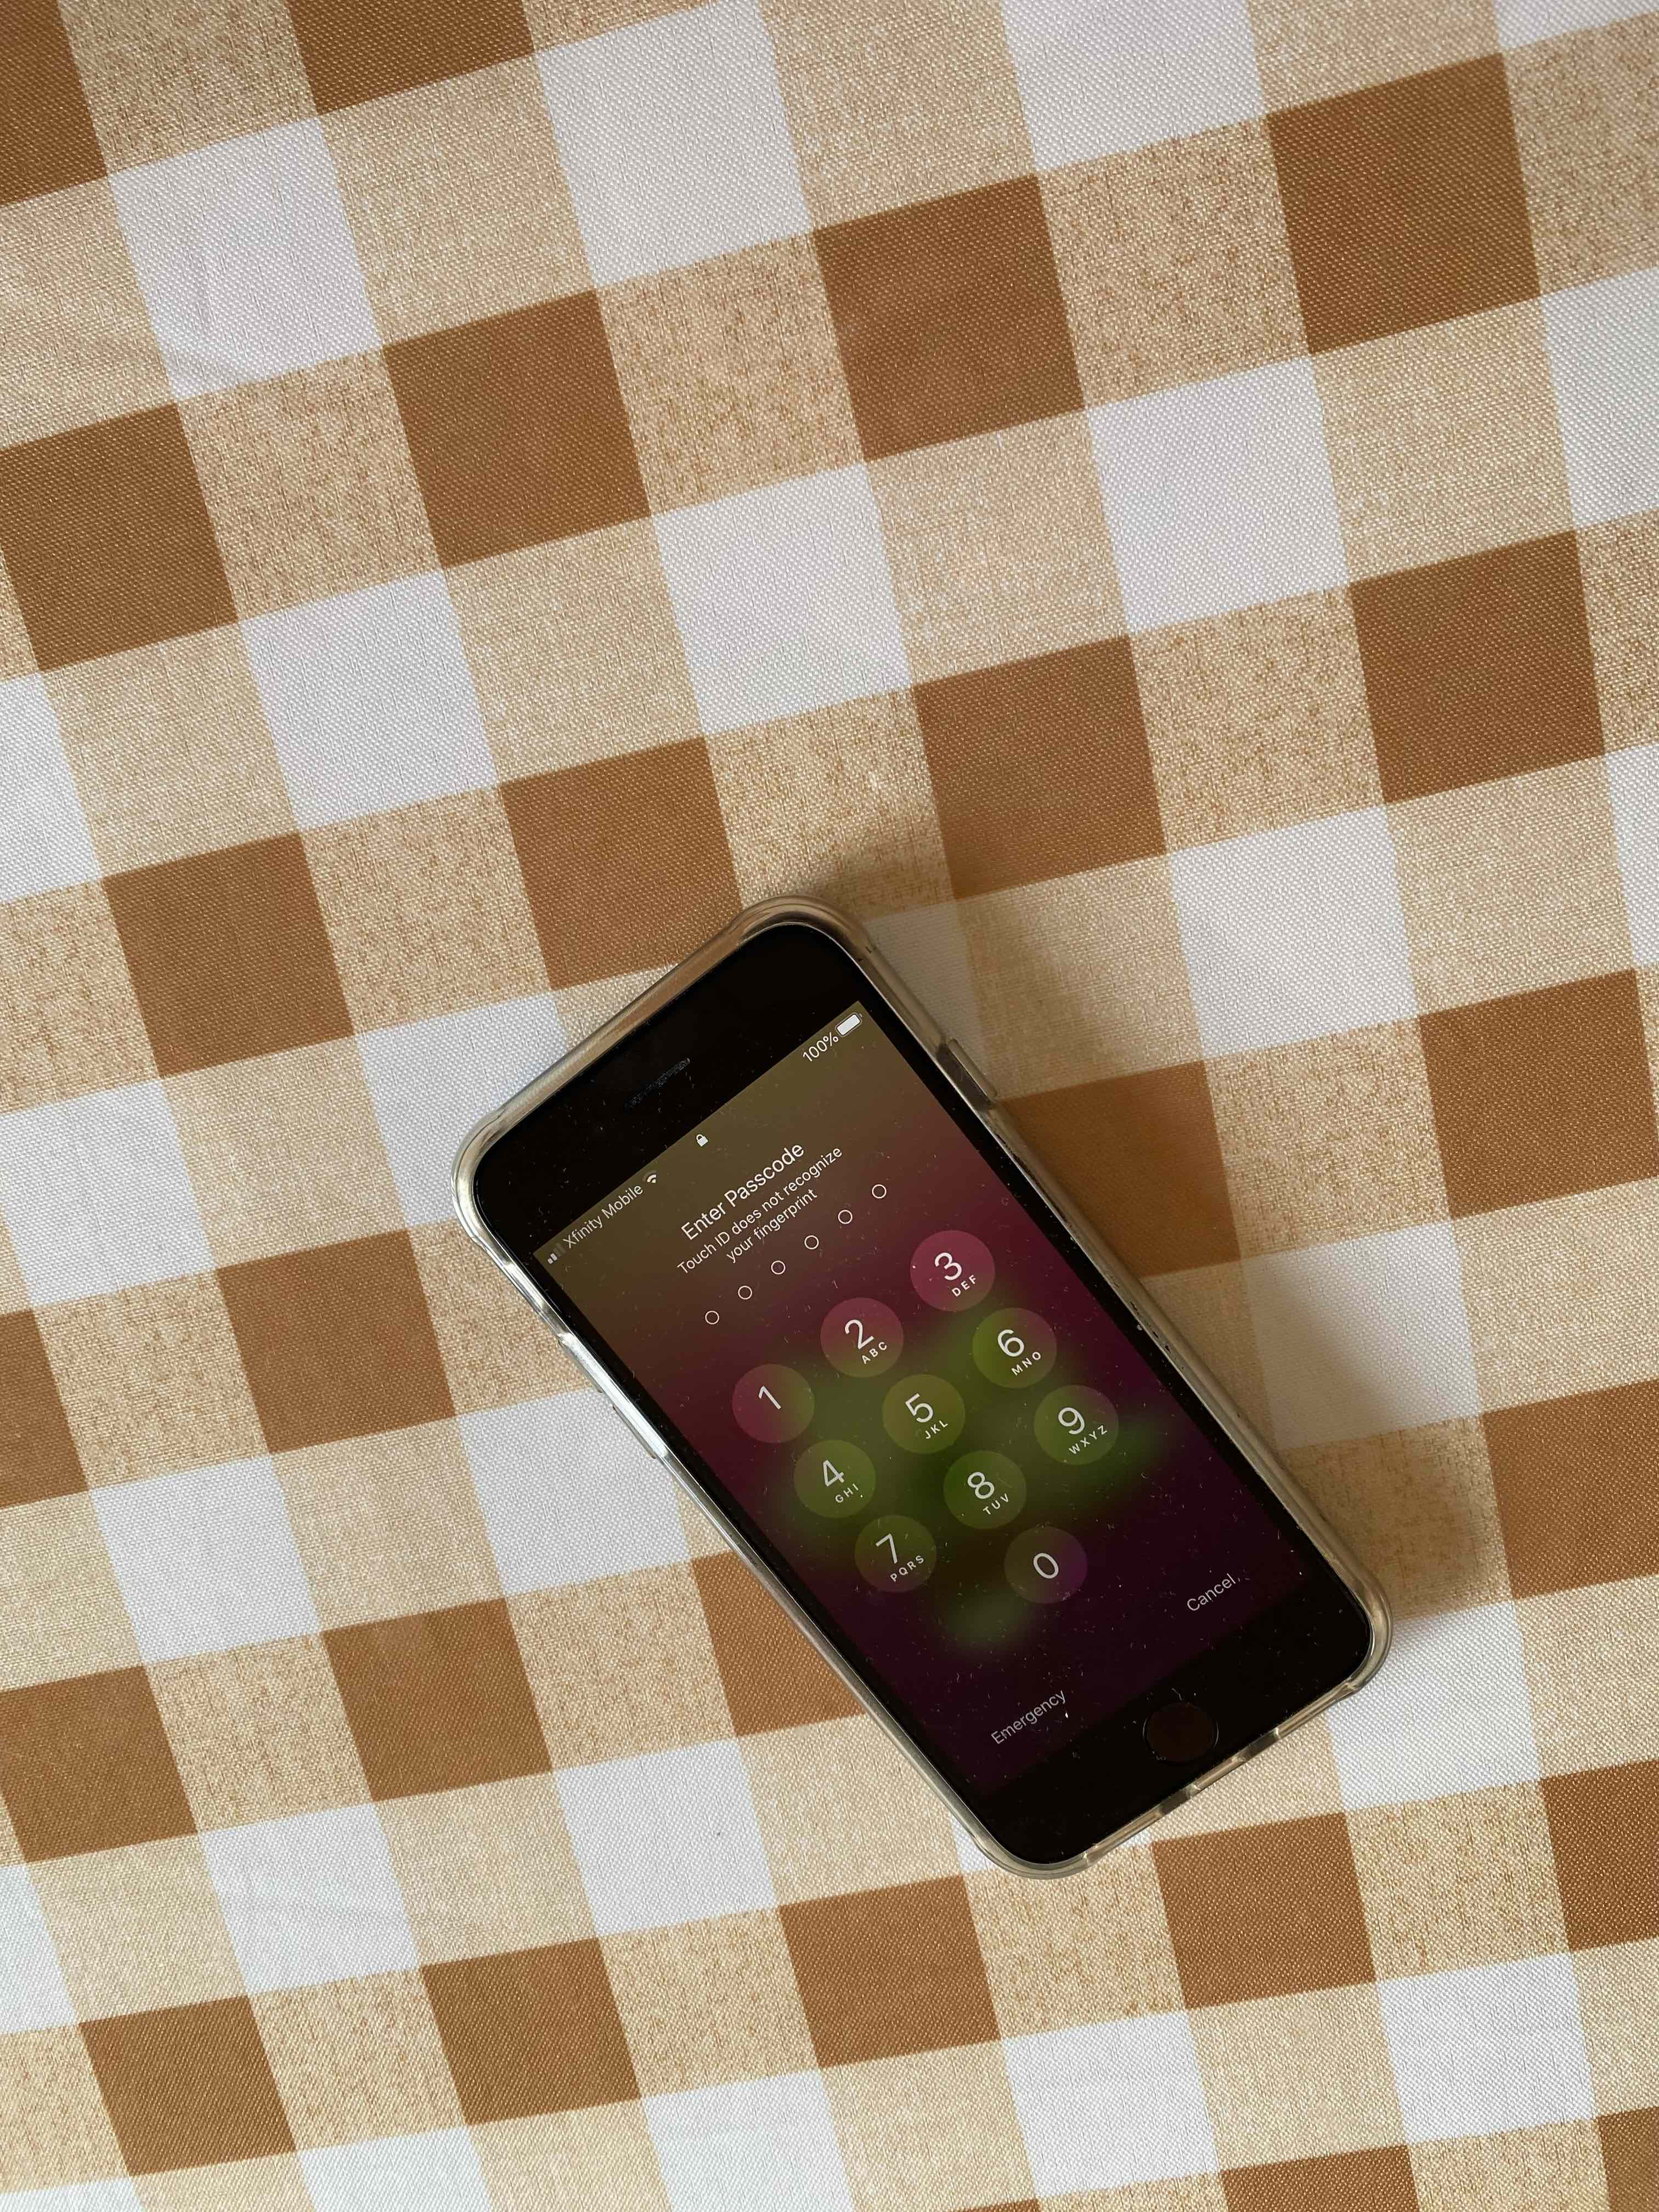Cell Phone: (455, 911, 1392, 1876)
